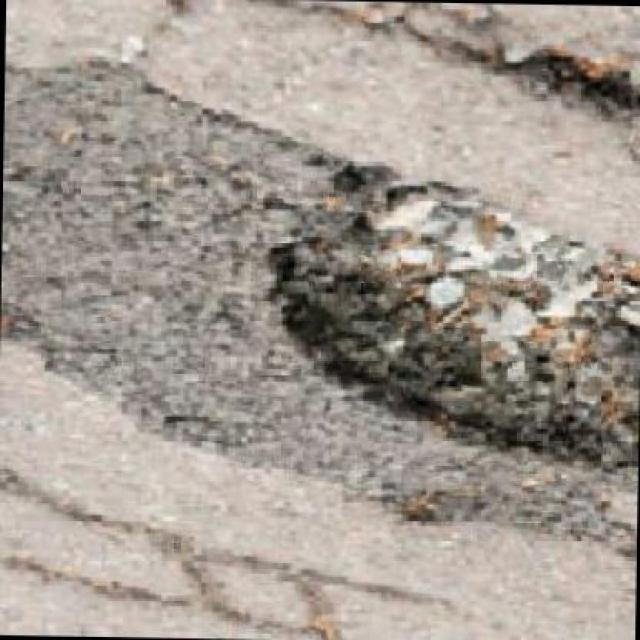pothole1: (257, 158, 638, 477), (504, 43, 638, 126)
